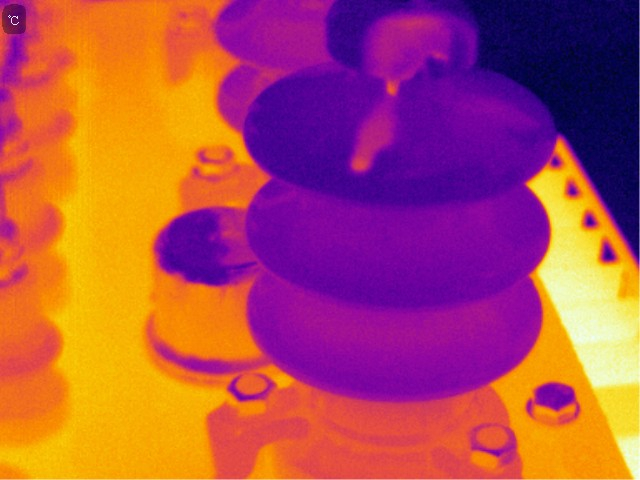Oil: (351, 10, 456, 100), (445, 89, 538, 165), (337, 101, 400, 175)
